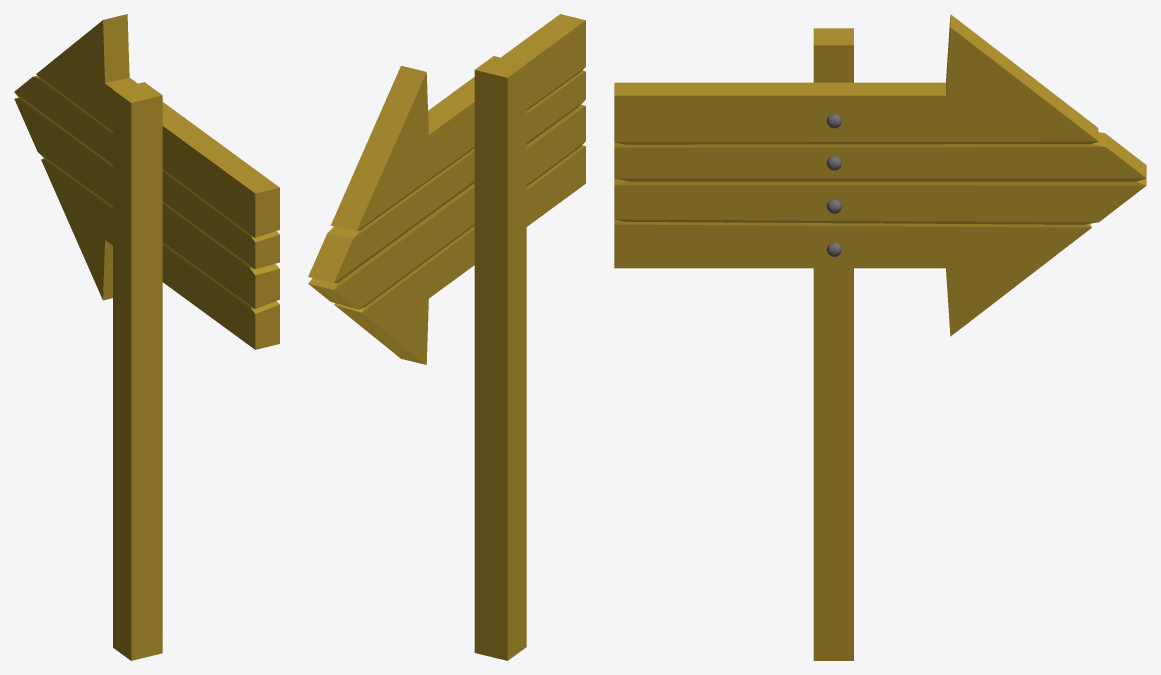
File: sign.fbx
3 renders of one model, left to right at view 1: azimuth 30°, elevation 25°; view 2: azimuth 150°, elevation 25°; view 3: azimuth 270°, elevation 25°, orthographic. The views are drawn at different scales.
Parts seen in each view (by area): view 1: Cube.001, Cube; view 2: Cube.001, Cube; view 3: Cube.001, Cube.
Boxes of the visible parts, x1=… form: Cube.001: x1=14, y1=14, x2=279, y2=349; Cube: x1=113, y1=82, x2=162, y2=660; Cube.001: x1=308, y1=14, x2=585, y2=364; Cube: x1=474, y1=56, x2=526, y2=660; Cube.001: x1=614, y1=14, x2=1146, y2=336; Cube: x1=813, y1=28, x2=853, y2=660.
Bounding box in the file's own units: 20.23 × 175 × 130.
